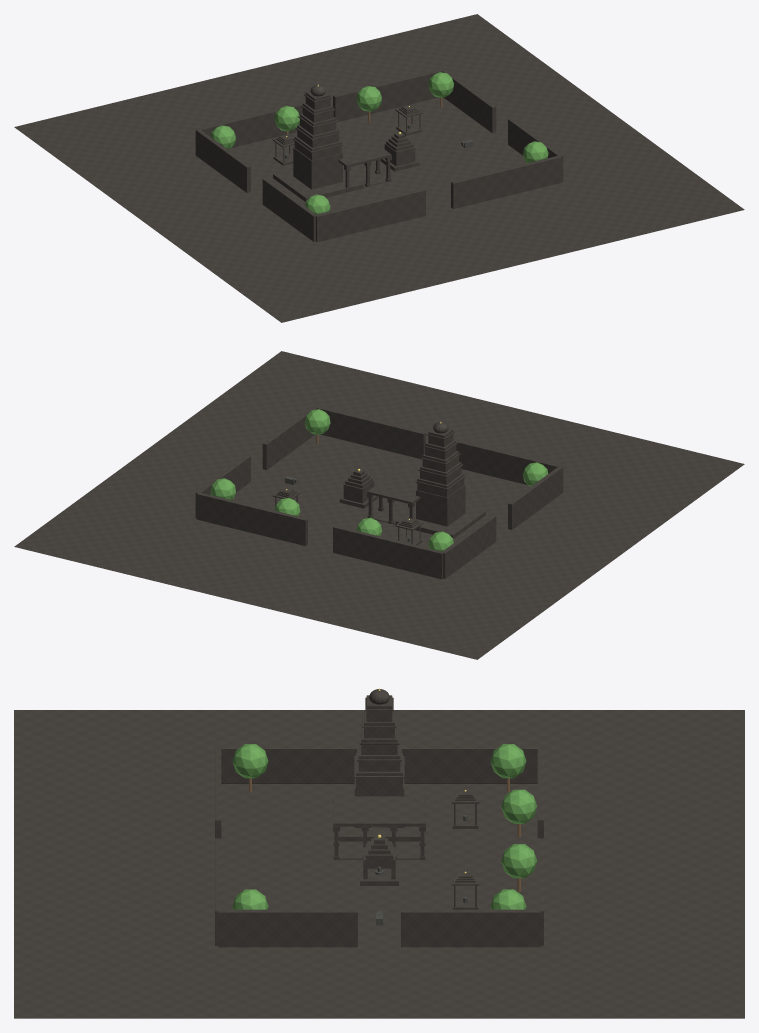
The model's file is srisailam_bhramaramba_kshetra_full.glb.
The picture shows the model from 3 angles, top to bottom: view 1: azimuth 30°, elevation 25°; view 2: azimuth 150°, elevation 25°; view 3: azimuth 270°, elevation 25°; orthographic projection. The views are drawn at different scales.
Visible parts, largest first — view 1: Ground_Main, Srisailam_Prakara_S_R, Srisailam_Prakara_S_L, Srisailam_Prakara_N_R, Mandapa, Srisailam_Prakara_W_R, Srisailam_Prakara_N_L, Srisailam_Prakara_W_L, Garbhagriha, Srisailam_Prakara_E_R, Bhramaramba_Jagati, Mallikarjuna_Shiva_Shrine (+6 smaller); view 2: Ground_Main, Srisailam_Prakara_N_R, Srisailam_Prakara_N_L, Srisailam_Prakara_S_R, Srisailam_Prakara_S_L, Mandapa, Srisailam_Prakara_W_L, Srisailam_Prakara_W_R, Garbhagriha, Srisailam_Prakara_E_L, Bhramaramba_Jagati, Mallikarjuna_Shiva_Shrine (+3 smaller); view 3: Ground_Main, Srisailam_Prakara_E_L, Srisailam_Prakara_E_R, Mandapa, Srisailam_Prakara_W_L, Srisailam_Prakara_W_R, Mallikarjuna_Shiva_Shrine, Nallamala_Tree_5, Nallamala_Tree_6, Bhramaramba_Jagati, Nallamala_Tree_1, Nallamala_Tree_2 (+13 smaller).
Boxes of the visible parts, bbox=[...] form: Ground_Main: bbox=[14, 14, 744, 322]; Srisailam_Prakara_S_R: bbox=[451, 156, 562, 208]; Srisailam_Prakara_S_L: bbox=[315, 188, 425, 242]; Srisailam_Prakara_N_R: bbox=[333, 69, 442, 121]; Mandapa: bbox=[338, 130, 391, 191]; Srisailam_Prakara_W_R: bbox=[195, 129, 250, 192]; Srisailam_Prakara_N_L: bbox=[196, 102, 305, 147]; Srisailam_Prakara_W_L: bbox=[262, 178, 316, 241]; Garbhagriha: bbox=[293, 147, 342, 189]; Srisailam_Prakara_E_R: bbox=[442, 69, 496, 132]; Bhramaramba_Jagati: bbox=[273, 169, 363, 201]; Mallikarjuna_Shiva_Shrine: bbox=[380, 132, 419, 171]; Ground_Main: bbox=[14, 351, 744, 659]; Srisailam_Prakara_N_R: bbox=[196, 493, 307, 545]; Srisailam_Prakara_N_L: bbox=[333, 525, 443, 579]; Srisailam_Prakara_S_R: bbox=[316, 406, 425, 458]; Srisailam_Prakara_S_L: bbox=[453, 439, 562, 484]; Mandapa: bbox=[367, 467, 420, 524]; Srisailam_Prakara_W_L: bbox=[508, 466, 563, 529]; Srisailam_Prakara_W_R: bbox=[443, 515, 496, 578]; Garbhagriha: bbox=[416, 484, 465, 526]; Srisailam_Prakara_E_L: bbox=[262, 406, 317, 469]; Bhramaramba_Jagati: bbox=[395, 506, 485, 538]; Mallikarjuna_Shiva_Shrine: bbox=[339, 469, 378, 508]; Ground_Main: bbox=[14, 710, 744, 1018]; Srisailam_Prakara_E_L: bbox=[218, 909, 357, 947]; Srisailam_Prakara_E_R: bbox=[401, 909, 540, 947]; Mandapa: bbox=[333, 793, 425, 859]; Srisailam_Prakara_W_L: bbox=[218, 746, 356, 783]; Srisailam_Prakara_W_R: bbox=[402, 746, 540, 783]; Mallikarjuna_Shiva_Shrine: bbox=[360, 834, 398, 885]; Nallamala_Tree_5: bbox=[501, 789, 537, 837]; Nallamala_Tree_6: bbox=[501, 844, 537, 892]; Bhramaramba_Jagati: bbox=[334, 826, 424, 841]; Nallamala_Tree_1: bbox=[490, 744, 526, 792]; Nallamala_Tree_2: bbox=[232, 744, 268, 792].
Size of the model in its own units: 68 by 13.88 by 68.
Materials: 14 (1 with a texture image).
